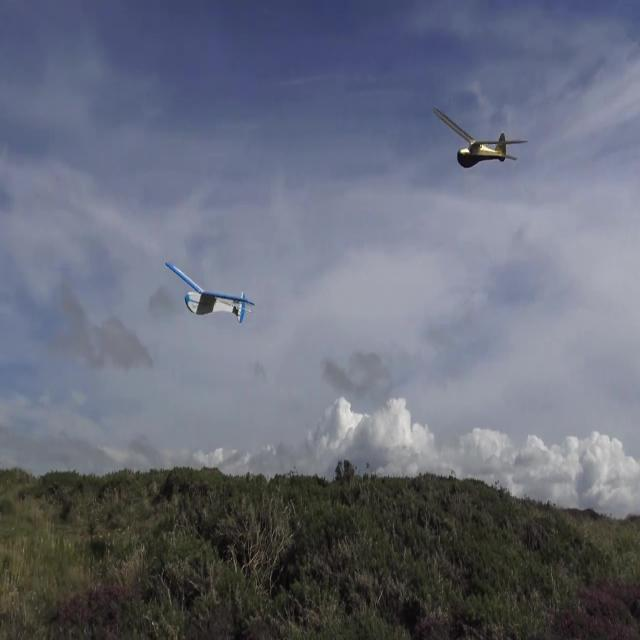iha: (461, 130, 497, 133), (196, 292, 224, 294)
